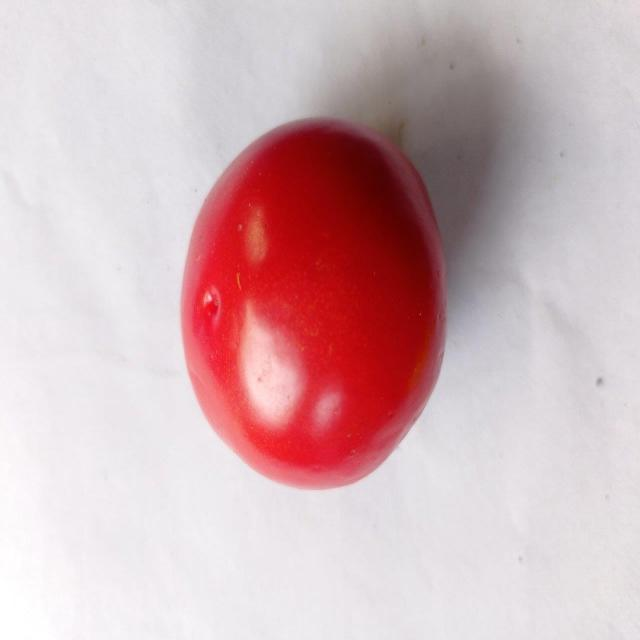Tomato: (176, 112, 449, 493)
